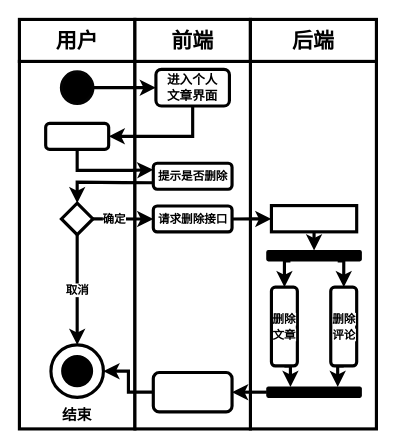
Some shapes in this 396 by 448 pixel diagram are drawn without their labels. The shapes that lost their labels are listed below. From the top down, each one's box as (x1, y1, x2, y2) in pixels, then its label:
(44, 121, 110, 150): 点击删除
(269, 203, 358, 233): 文章删除API
(151, 370, 233, 413): 从页面 删除文章
